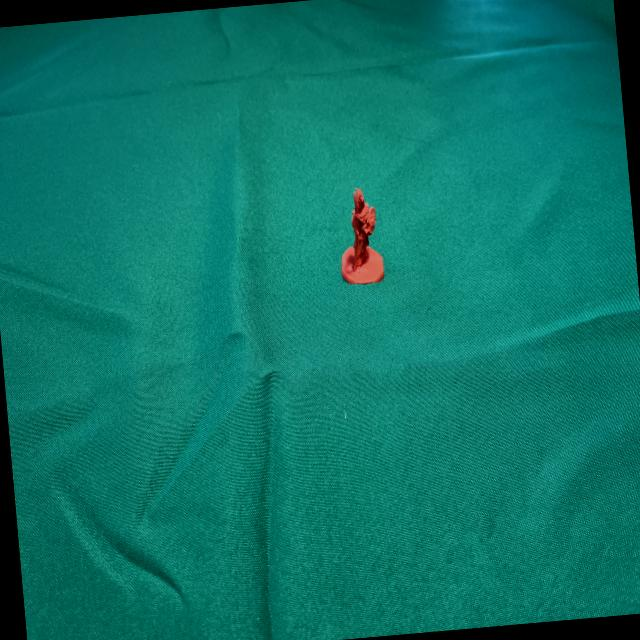amon_follower: (341, 188, 382, 283)
